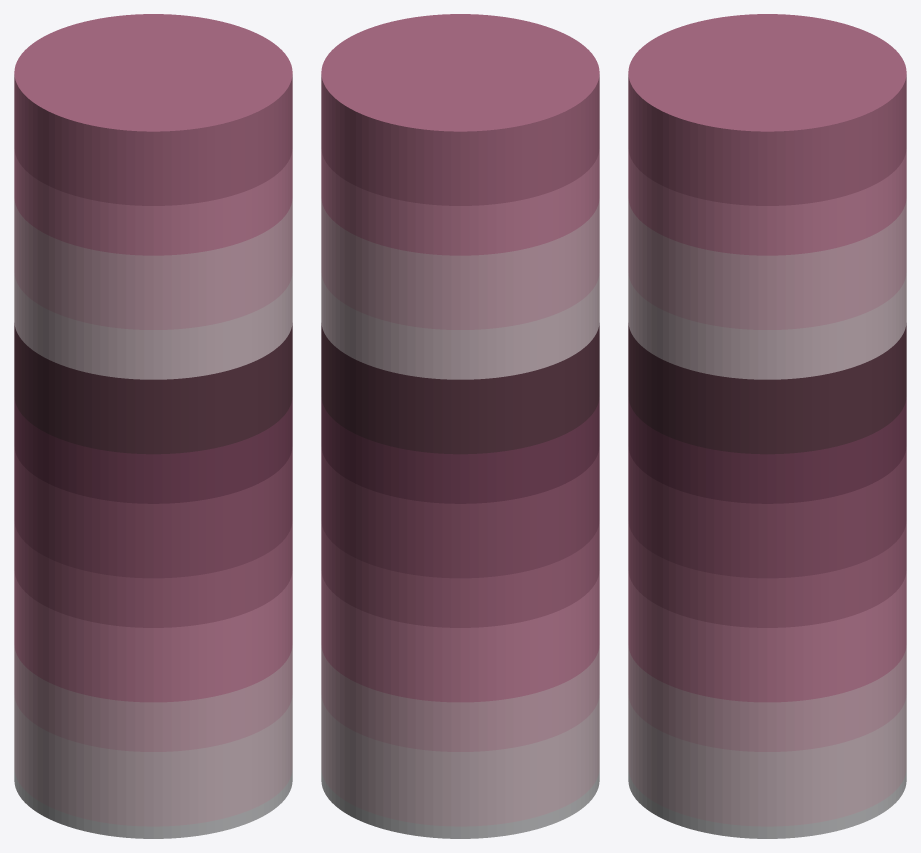
File: cake_4in_layers6.glb
3 renders of one model, left to right at view 1: azimuth 30°, elevation 25°; view 2: azimuth 150°, elevation 25°; view 3: azimuth 270°, elevation 25°, orthographic.
Visible parts, largest first — view 1: geometry_10, geometry_6, geometry_0, geometry_2, geometry_4, geometry_8, geometry_9, geometry_3, geometry_1, geometry_7, geometry_5, geometry_11; view 2: geometry_10, geometry_6, geometry_0, geometry_2, geometry_4, geometry_8, geometry_9, geometry_3, geometry_1, geometry_7, geometry_5, geometry_11; view 3: geometry_10, geometry_6, geometry_0, geometry_2, geometry_4, geometry_8, geometry_9, geometry_3, geometry_1, geometry_7, geometry_5, geometry_11.
Part boxes in pixels (<box>): geometry_10: <box>14,14,292,205</box>; geometry_6: <box>14,323,292,454</box>; geometry_0: <box>14,695,292,826</box>; geometry_2: <box>14,571,292,702</box>; geometry_4: <box>14,447,292,578</box>; geometry_8: <box>14,199,292,329</box>; geometry_9: <box>14,149,292,255</box>; geometry_3: <box>14,521,292,627</box>; geometry_1: <box>14,645,292,751</box>; geometry_7: <box>14,273,292,379</box>; geometry_5: <box>14,397,292,503</box>; geometry_11: <box>14,769,292,838</box>; geometry_10: <box>321,14,599,205</box>; geometry_6: <box>321,323,599,454</box>; geometry_0: <box>321,695,599,826</box>; geometry_2: <box>321,571,599,702</box>; geometry_4: <box>321,447,599,578</box>; geometry_8: <box>321,199,599,329</box>; geometry_9: <box>321,149,599,255</box>; geometry_3: <box>321,521,599,627</box>; geometry_1: <box>321,645,599,751</box>; geometry_7: <box>321,273,599,379</box>; geometry_5: <box>321,397,599,503</box>; geometry_11: <box>321,769,599,838</box>; geometry_10: <box>628,14,906,205</box>; geometry_6: <box>628,323,906,454</box>; geometry_0: <box>628,695,906,826</box>; geometry_2: <box>628,571,906,702</box>; geometry_4: <box>628,447,906,578</box>; geometry_8: <box>628,199,906,329</box>; geometry_9: <box>628,149,906,255</box>; geometry_3: <box>628,521,906,627</box>; geometry_1: <box>628,645,906,751</box>; geometry_7: <box>628,273,906,379</box>; geometry_5: <box>628,397,906,503</box>; geometry_11: <box>628,769,906,838</box>.
Bounding box in the file's own units: 0.1016 × 0.285 × 0.1016.
